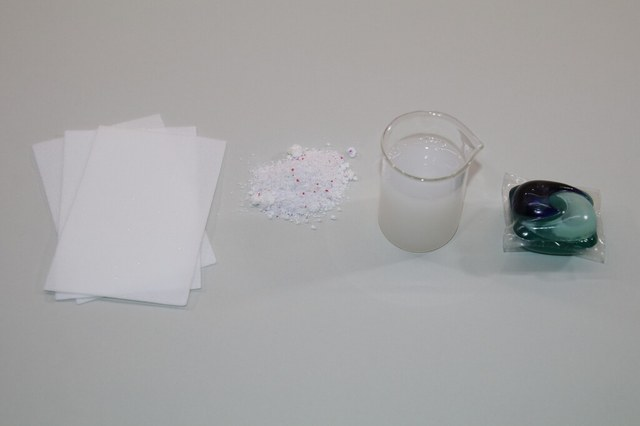Lizol Disinfectant: (32, 21, 608, 405)
